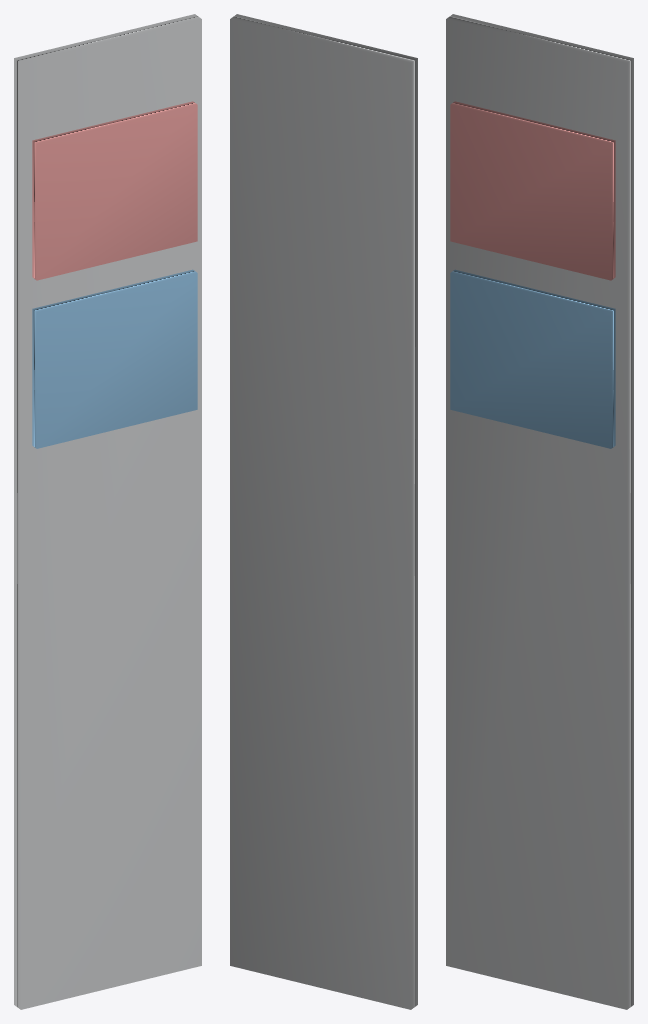
The model's file is litmus-paper.glb.
3 views of the same model, side by side, from view 1: azimuth 30°, elevation 25°; view 2: azimuth 150°, elevation 25°; view 3: azimuth 330°, elevation 25° (orthographic).
Visible parts, largest first — view 1: paper, color_patch_0, color_patch_1; view 2: paper; view 3: paper, color_patch_0, color_patch_1.
Boxes of the visible parts, x1,y1,x2,y2 form: paper: (14,14,201,1009); color_patch_0: (32,101,197,280); color_patch_1: (32,269,197,448); paper: (230,14,417,1009); paper: (446,14,633,1009); color_patch_0: (450,101,615,280); color_patch_1: (450,269,615,448).
Bounding box in the file's own units: 0.18 × 0.9 × 0.022.
